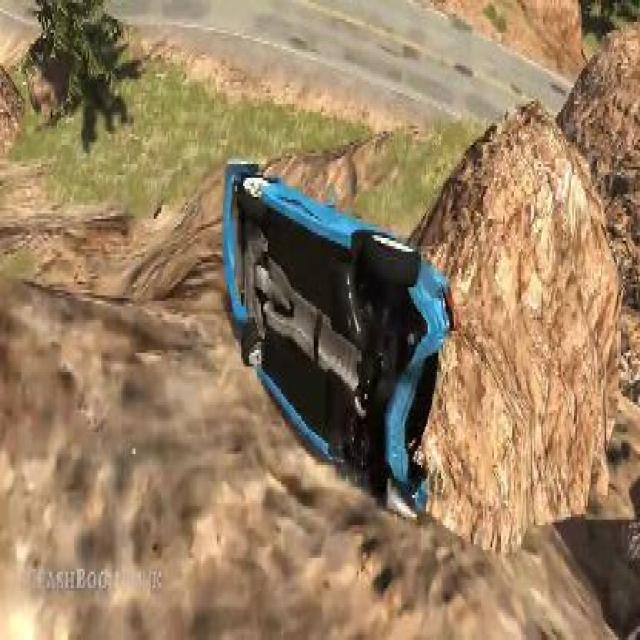accident: (216, 140, 462, 536)
